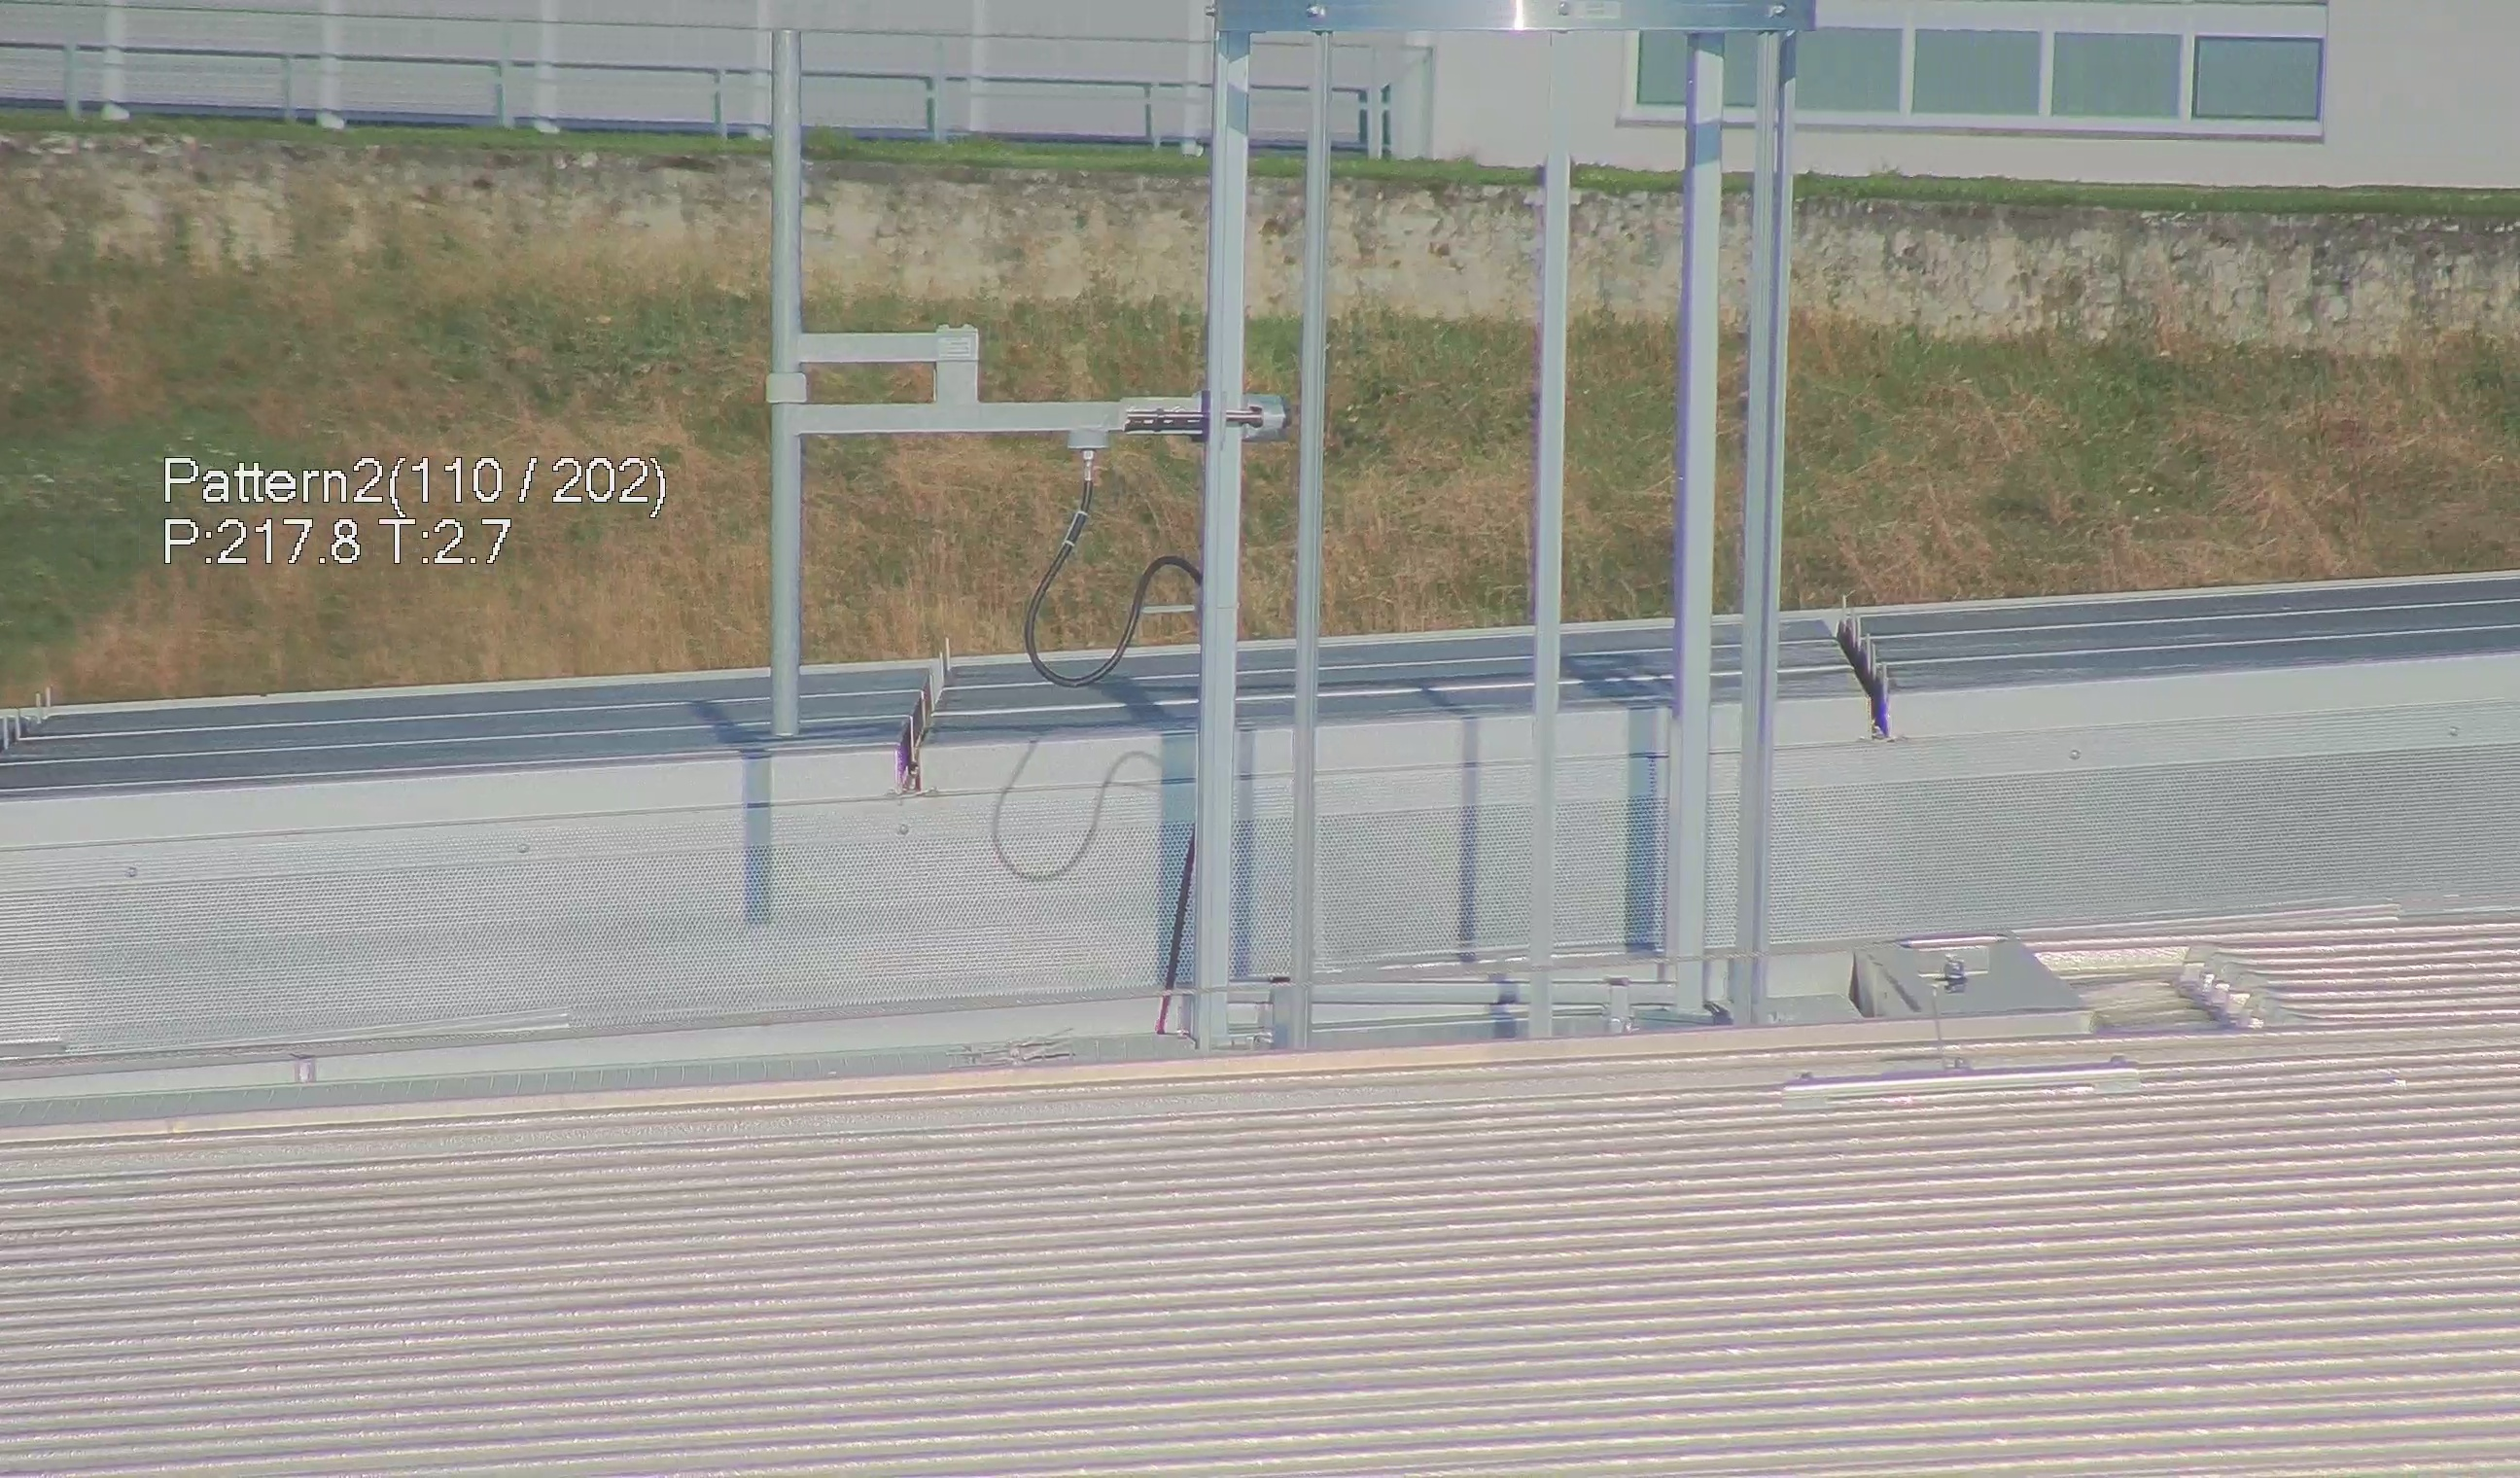Other: (1815, 593, 1924, 750)
